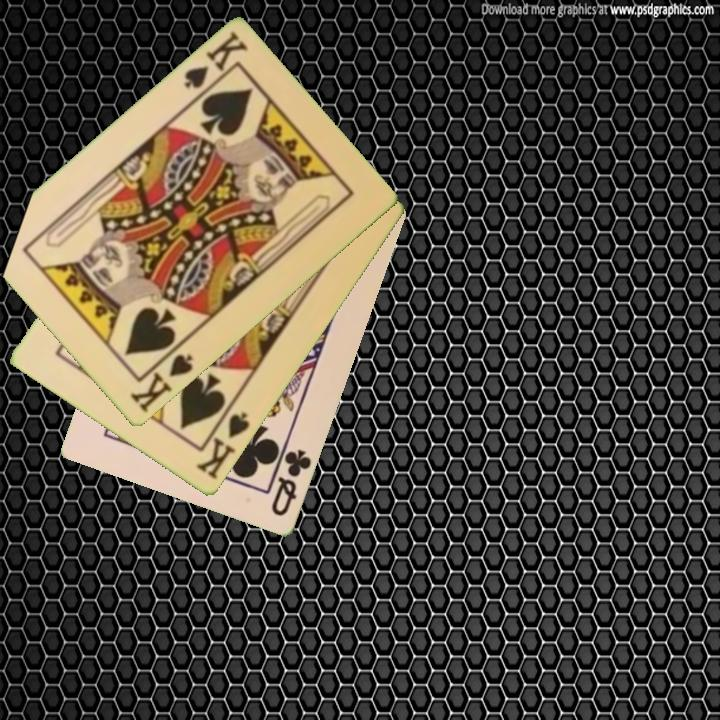Ks: (193, 401, 253, 483), (126, 351, 196, 417), (180, 28, 251, 93)
Qc: (266, 439, 315, 520)
